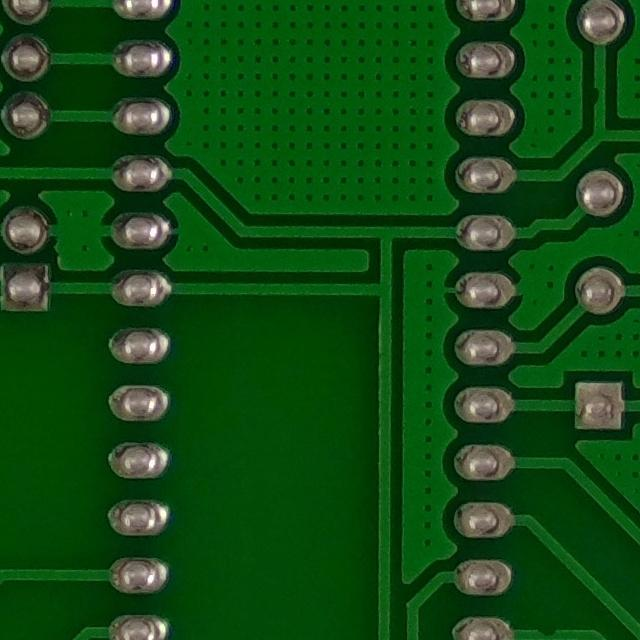mouse_bite: (581, 75, 613, 114), (531, 615, 564, 640)
